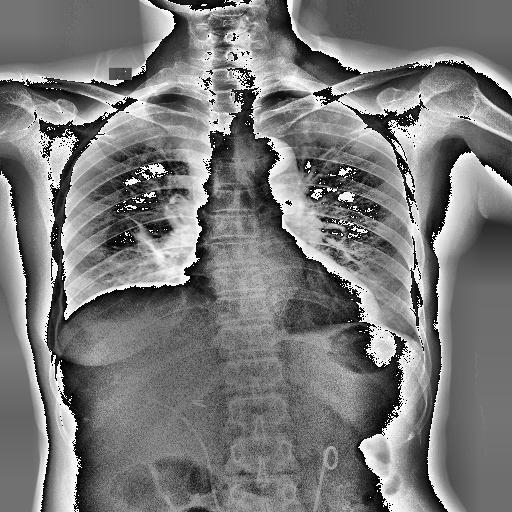0- Aortic enlargement: (244, 140, 302, 198), (246, 137, 300, 190), (255, 138, 300, 176)
13- Pulmonary fibrosis: (126, 216, 170, 268), (126, 216, 166, 270), (130, 217, 168, 269)
3- Cardiomegaly: (180, 250, 382, 323), (172, 264, 382, 326), (179, 271, 381, 322)
6- Infiltration: (276, 93, 358, 148)
